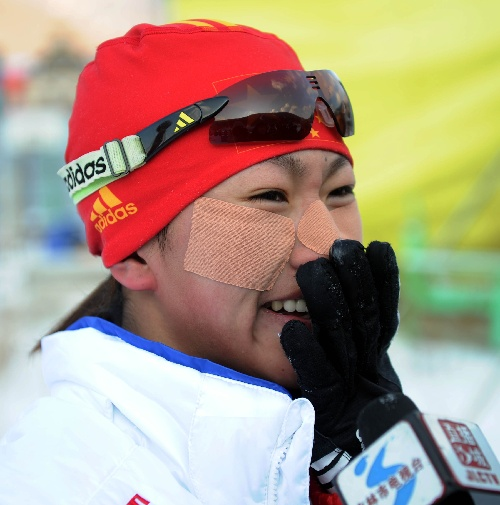face: (163, 120, 362, 382)
